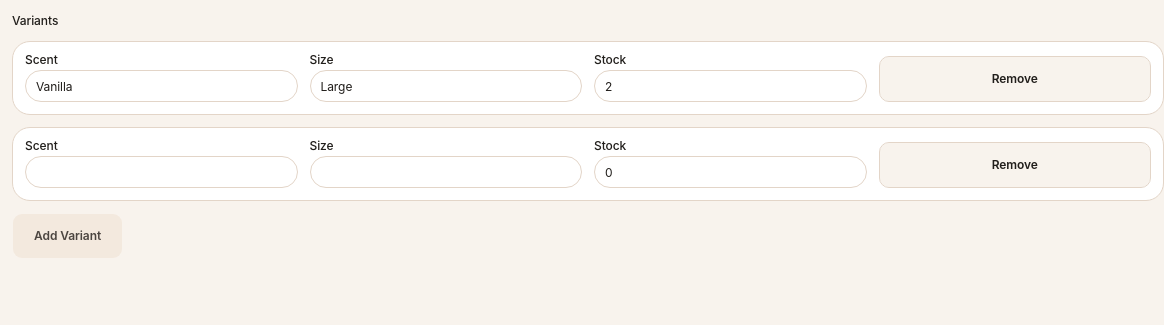
VariantEditorFieldArray › warns on duplicate scent/size pairs case-insensitively
The image size is (1164, 325).
Type " vanilla " into the 2nd field labelled "Scent".
click(161, 172); type(" vanilla ")  # box top-left (25, 156), bottom-right (298, 188)
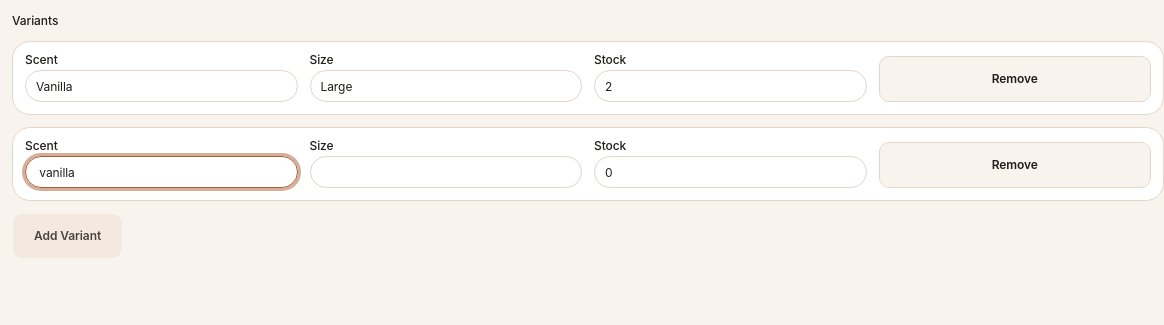
Type "LARGE" into the 2nd field labelled "Size".
click(446, 172); type("LARGE")  # box top-left (310, 156), bottom-right (582, 188)
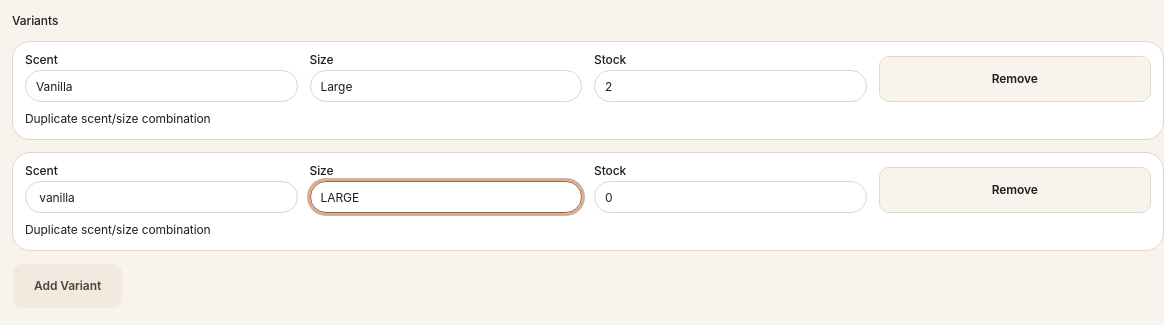
Check: the 1st text "Duplicate scent/size combination" is shown, box top-left (25, 111), bottom-right (211, 126)
